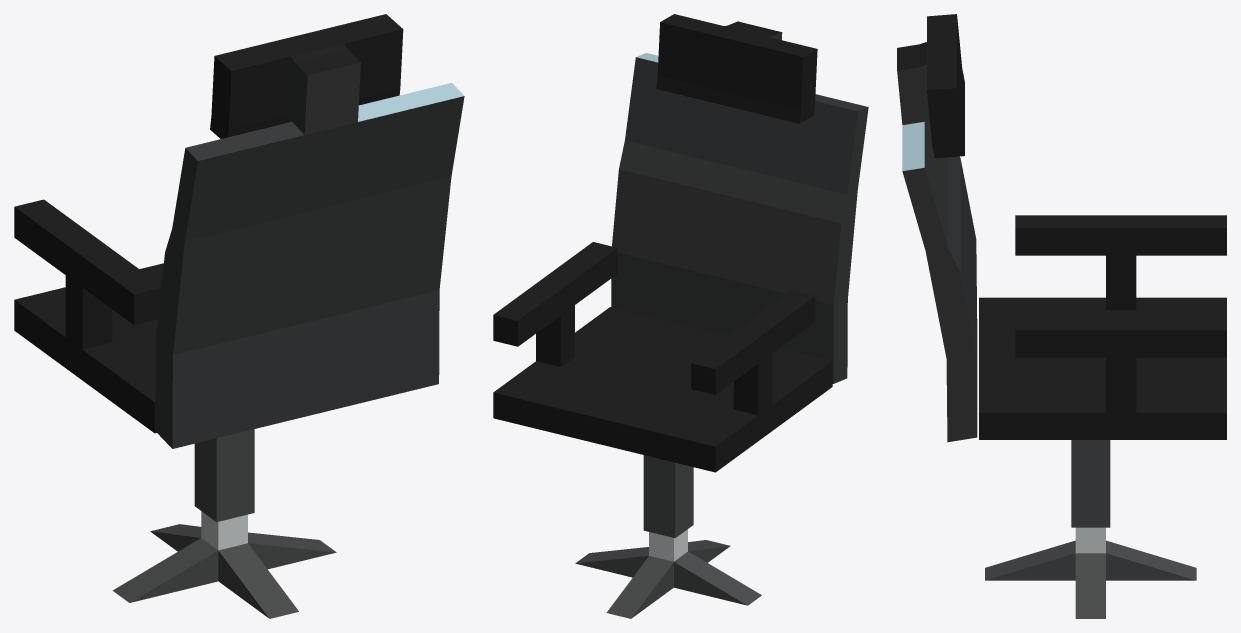
File: office_chair.fbx
3 renders of one model, left to right at view 1: azimuth 30°, elevation 25°; view 2: azimuth 150°, elevation 25°; view 3: azimuth 270°, elevation 25°, orthographic. The views are drawn at different scales.
Parts seen in each view (by area): view 1: cuboid_5, chair, armRest_1, cuboid, link; view 2: cuboid_5, chair, armRest_1, armRest, cuboid, link; view 3: chair, cuboid_5, armRest, armRest_1, cuboid, link.
Part boxes in pixels (x1=…): cuboid_5: x1=155, y1=14, x2=464, y2=448; chair: x1=14, y1=263, x2=254, y2=521; armRest_1: x1=14, y1=199, x2=161, y2=349; cuboid: x1=112, y1=524, x2=336, y2=618; link: x1=201, y1=511, x2=247, y2=550; cuboid_5: x1=611, y1=14, x2=868, y2=383; chair: x1=493, y1=307, x2=832, y2=538; armRest_1: x1=691, y1=290, x2=815, y2=415; armRest: x1=493, y1=242, x2=617, y2=366; cuboid: x1=575, y1=540, x2=761, y2=618; link: x1=649, y1=529, x2=687, y2=561; chair: x1=979, y1=297, x2=1226, y2=527; cuboid_5: x1=897, y1=14, x2=977, y2=442; armRest: x1=1015, y1=317, x2=1226, y2=412; armRest_1: x1=1015, y1=215, x2=1226, y2=310; cuboid: x1=985, y1=540, x2=1196, y2=618; link: x1=1075, y1=527, x2=1105, y2=553.
Size of the model in its own units: 56.25 by 119 by 68.16.
5 materials, 5 textured.
